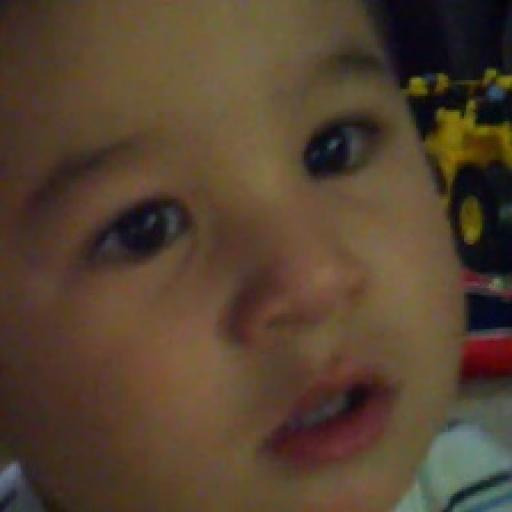Autism: (6, 2, 488, 512)
